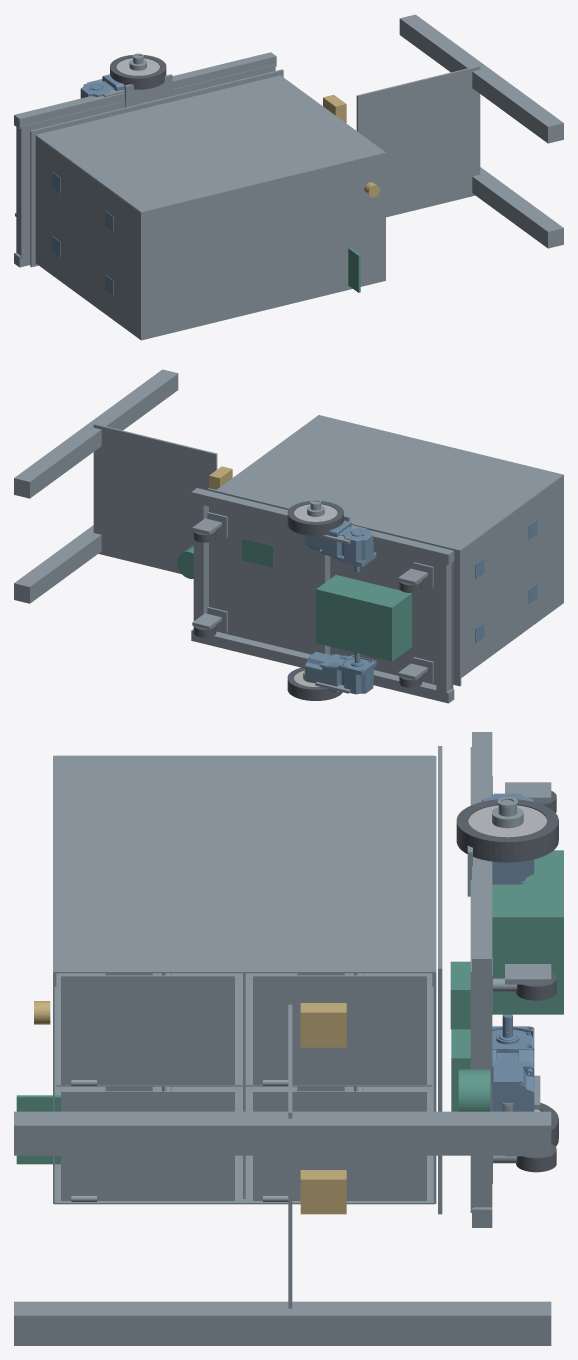
File: A14_ROBOT_ET_STATION.glb
3 renders of one model, top to bottom at view 1: azimuth 30°, elevation 25°; view 2: azimuth 150°, elevation 25°; view 3: azimuth 270°, elevation 25°, orthographic. The views are drawn at different scales.
Parts seen in each view (by area): view 1: K01_49, K02_55, D07_130, K03_51, D08_132, C03_5, C01_1, D08_131, C04_6, R01_25, C06_8, C02_2 (+4 smaller); view 2: K02_55, C03_5, D07_130, K03_51, E01_120, D08_132, C01_1, C01_0, D08_131, M01_9, C02_2, M01_D_13 (+8 smaller); view 3: K02_55, D08_131, D08_132, K07_62, K07_60, K07_58, K07_56, E01_120, K02_54, K05_52, C01_1, M01_9 (+16 smaller).
Part boxes in pixels (x1=…): K01_49: x1=141, y1=152, x2=385, y2=340; K02_55: x1=36, y1=75, x2=385, y2=212; D07_130: x1=356, y1=65, x2=480, y2=217; K03_51: x1=36, y1=136, x2=141, y2=339; D08_132: x1=399, y1=14, x2=563, y2=143; C03_5: x1=20, y1=64, x2=275, y2=259; C01_1: x1=14, y1=52, x2=276, y2=129; D08_131: x1=472, y1=167, x2=563, y2=248; C04_6: x1=30, y1=69, x2=283, y2=267; R01_25: x1=110, y1=55, x2=166, y2=89; C06_8: x1=124, y1=74, x2=172, y2=107; C02_2: x1=16, y1=127, x2=20, y2=255; K02_55: x1=216, y1=415, x2=563, y2=549; C03_5: x1=209, y1=506, x2=453, y2=688; D07_130: x1=93, y1=423, x2=217, y2=573; K03_51: x1=461, y1=475, x2=563, y2=676; E01_120: x1=316, y1=575, x2=411, y2=661; D08_132: x1=14, y1=369, x2=178, y2=498; C01_1: x1=191, y1=488, x2=454, y2=564; C01_0: x1=191, y1=629, x2=454, y2=703; D08_131: x1=14, y1=525, x2=101, y2=603; M01_9: x1=304, y1=651, x2=376, y2=694; C02_2: x1=436, y1=560, x2=451, y2=692; M01_D_13: x1=304, y1=520, x2=376, y2=572; K02_55: x1=54, y1=755, x2=434, y2=973; D08_131: x1=14, y1=1301, x2=551, y2=1345; D08_132: x1=14, y1=1111, x2=551, y2=1155; K07_62: x1=61, y1=975, x2=234, y2=1084; K07_60: x1=253, y1=975, x2=426, y2=1084; K07_58: x1=61, y1=1091, x2=234, y2=1200; K07_56: x1=253, y1=1091, x2=426, y2=1200; E01_120: x1=492, y1=850, x2=563, y2=1014; K02_54: x1=54, y1=987, x2=434, y2=1204; K05_52: x1=56, y1=973, x2=432, y2=1086; C01_1: x1=472, y1=732, x2=492, y2=977; M01_9: x1=492, y1=1014, x2=534, y2=1111.
Size of the model in its own units: 1708 by 768 by 1075.
